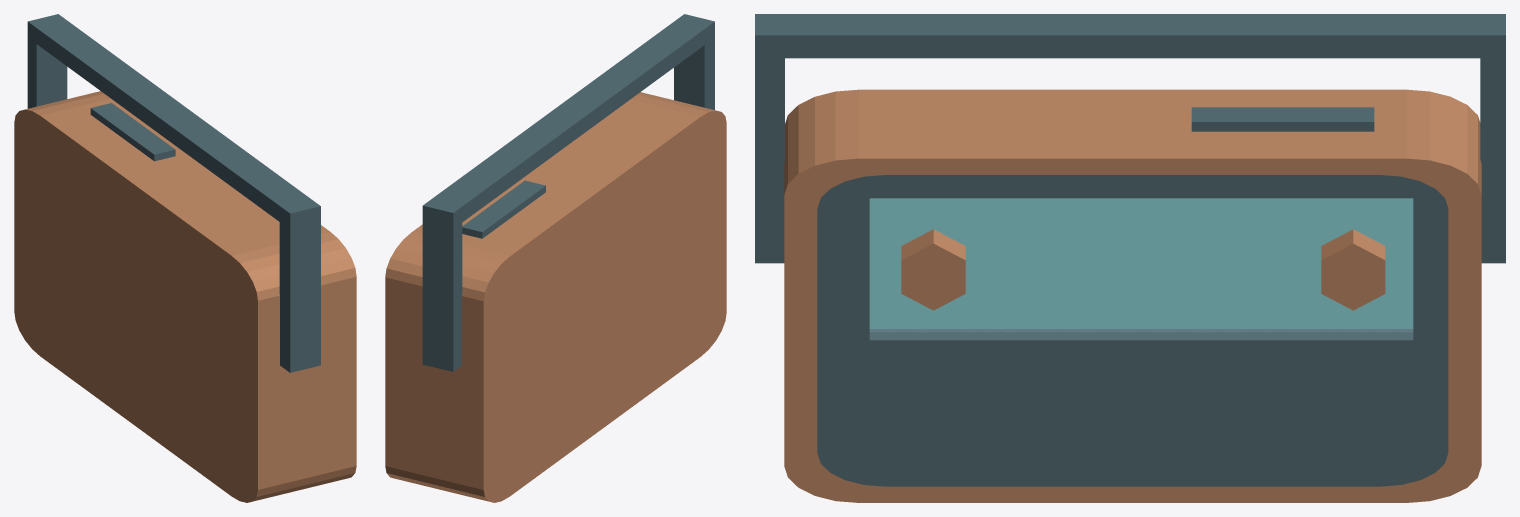
File: radio.fbx
3 renders of one model, left to right at view 1: azimuth 30°, elevation 25°; view 2: azimuth 150°, elevation 25°; view 3: azimuth 270°, elevation 25°, orthographic. The views are drawn at different scales.
Parts seen in each view (by area): view 1: Cube, Cube.001, Cube.002; view 2: Cube, Cube.001, Cube.002; view 3: Cube, Cube.003, Cube.001, Cube.002, Cylinder.001, Cylinder.
Boxes of the visible parts, x1,y1,x2,y2 form: Cube: [14, 91, 356, 502]; Cube.001: [27, 14, 320, 372]; Cube.002: [90, 103, 175, 161]; Cube: [385, 92, 726, 502]; Cube.001: [422, 14, 714, 371]; Cube.002: [462, 180, 545, 238]; Cube: [784, 89, 1481, 502]; Cube.003: [870, 198, 1412, 339]; Cube.001: [755, 14, 1505, 263]; Cube.002: [1191, 107, 1374, 131]; Cylinder.001: [1321, 229, 1385, 310]; Cylinder: [901, 229, 965, 310].
Bounding box in the file's own units: 162 × 398 × 622.
